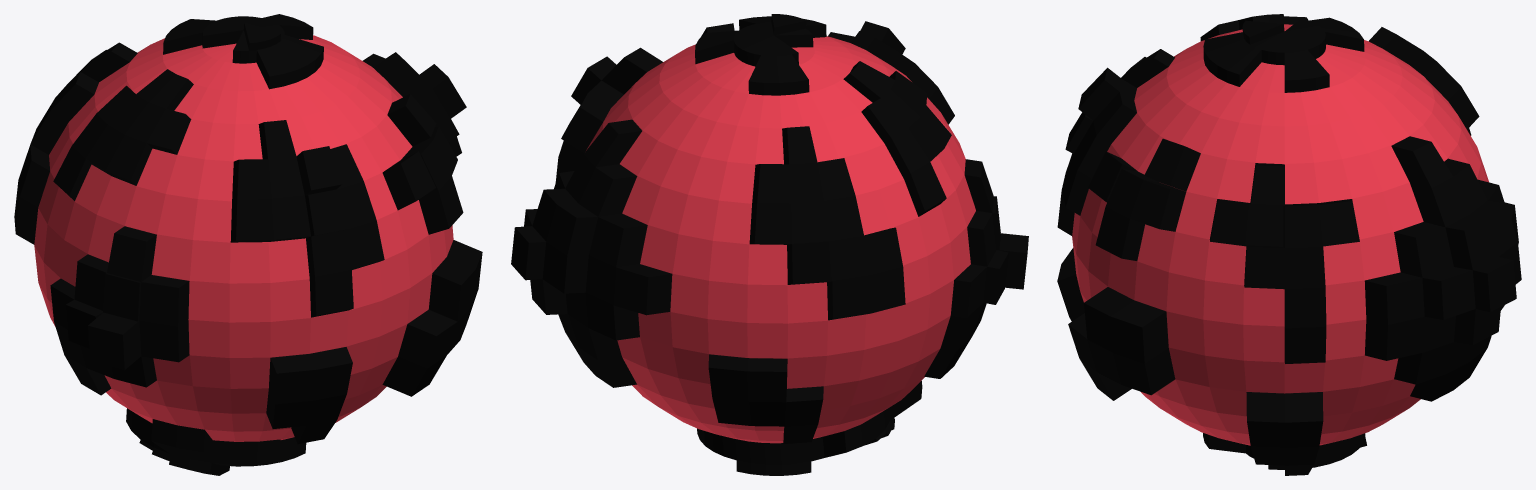
Rendered from Vulcanic.fbx.
3 renders of one model, left to right at view 1: azimuth 30°, elevation 25°; view 2: azimuth 150°, elevation 25°; view 3: azimuth 270°, elevation 25°, orthographic. The views are drawn at different scales.
Parts seen in each view (by area): view 1: Sphere, Sphere.001; view 2: Sphere, Sphere.001; view 3: Sphere, Sphere.001.
Part boxes in pixels (bbox=[...]): Sphere: bbox=[14, 14, 482, 475]; Sphere.001: bbox=[34, 35, 453, 441]; Sphere: bbox=[511, 14, 1028, 475]; Sphere.001: bbox=[586, 36, 975, 443]; Sphere: bbox=[1057, 14, 1521, 475]; Sphere.001: bbox=[1072, 24, 1488, 445].
Size of the model in its own units: 227 by 228 by 219.
